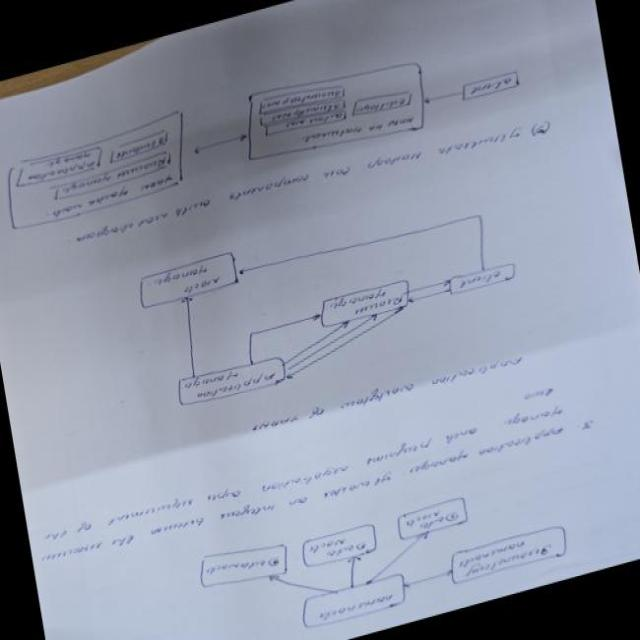Figure Detection - v3 Dataset Version2: (0, 0, 550, 249), (116, 163, 535, 430), (178, 438, 605, 640)
